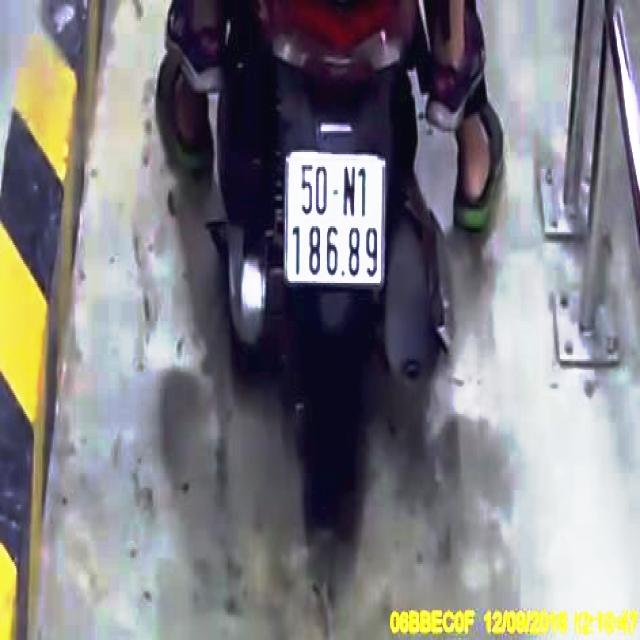license_plate: (289, 154, 383, 283)
